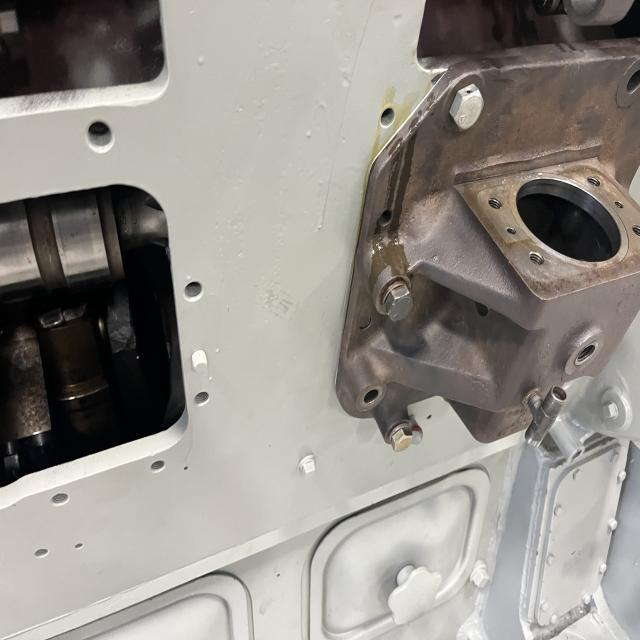Oil Leak: (348, 75, 439, 320)
